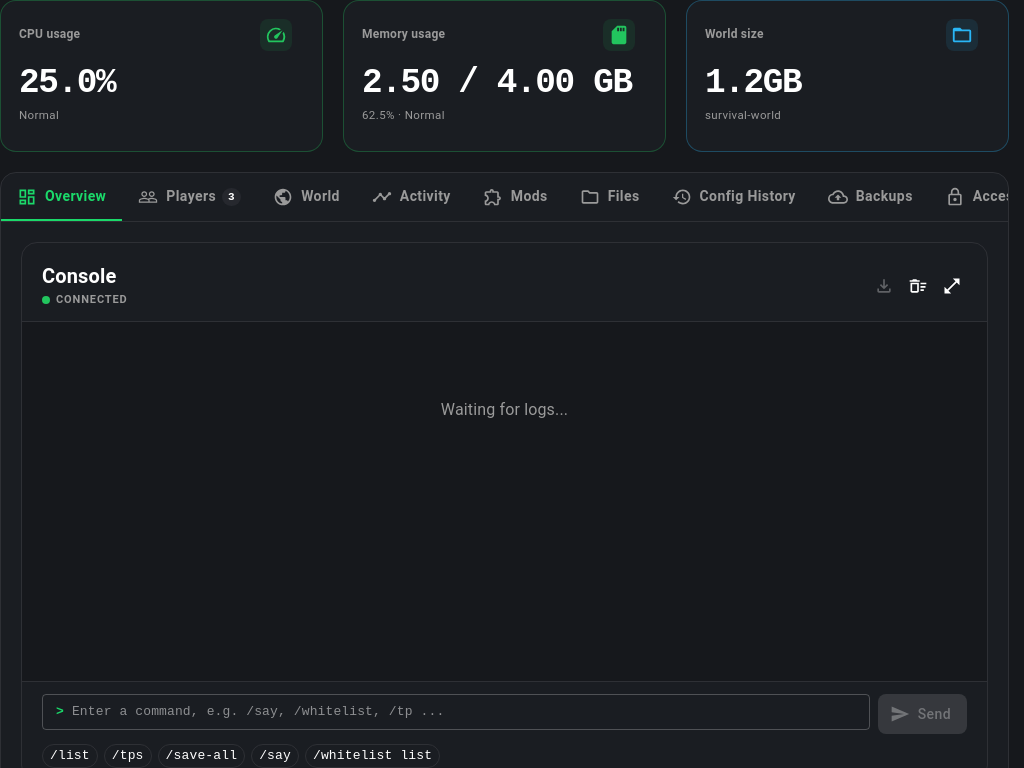
Test: ServerDetail › console › shows the console only on the Overview tab
The image size is (1024, 768).
What coordinates should you click on to do the following:
click the tab "Activity"
I would click on:
 (411, 197)
Its box is [356, 173, 467, 221].
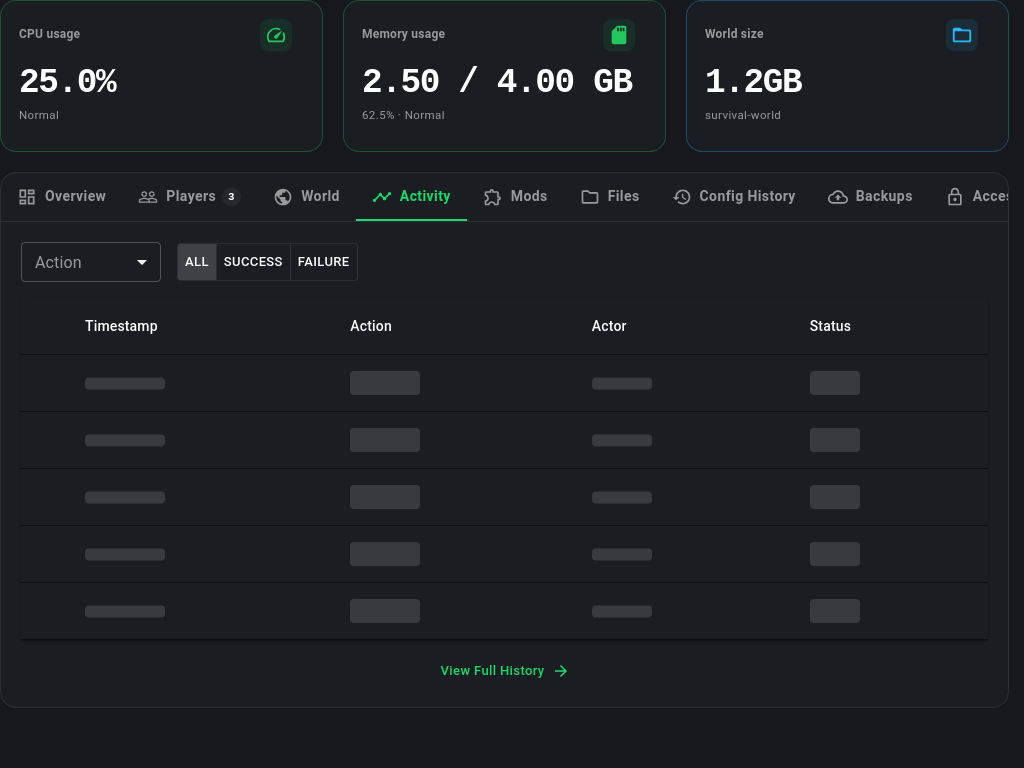
What coordinates should you click on to do the following:
click the tab "Overview"
I would click on:
 (62, 197)
Its box is [1, 173, 122, 221].
(page scrolled)
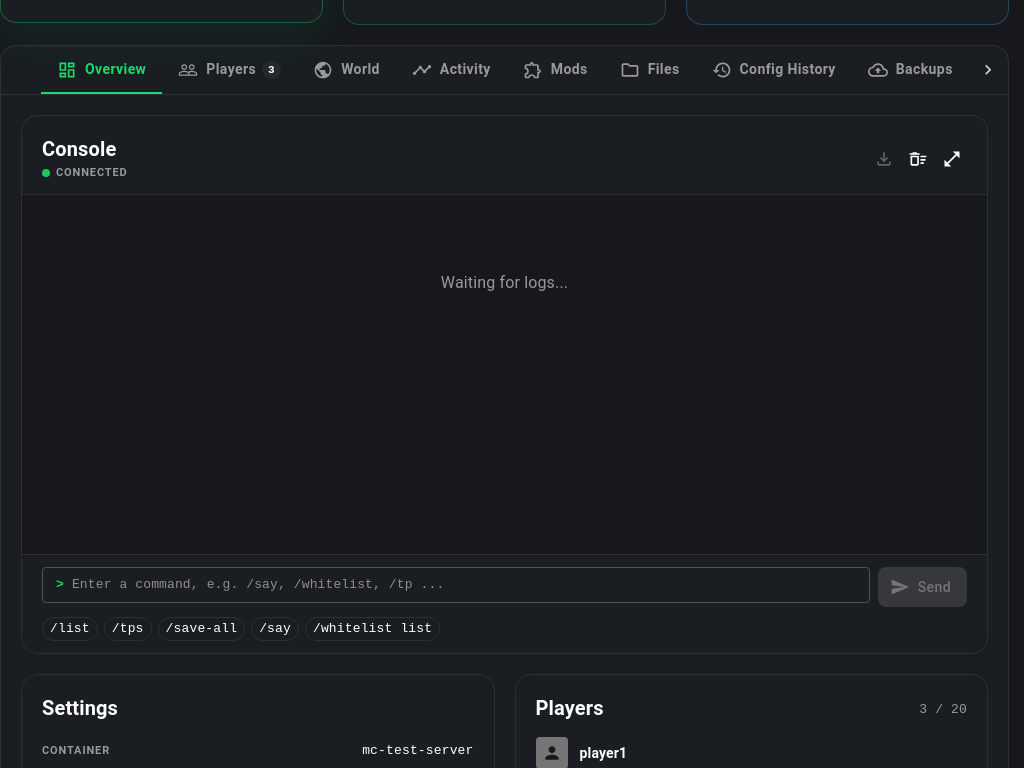
Check: the element named "Server console" is shown
